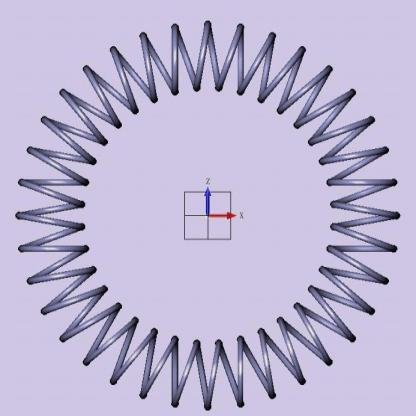FOD: (12, 13, 405, 413)
